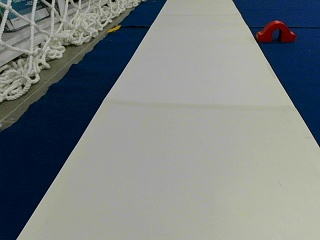bridge: (257, 20, 295, 41)
